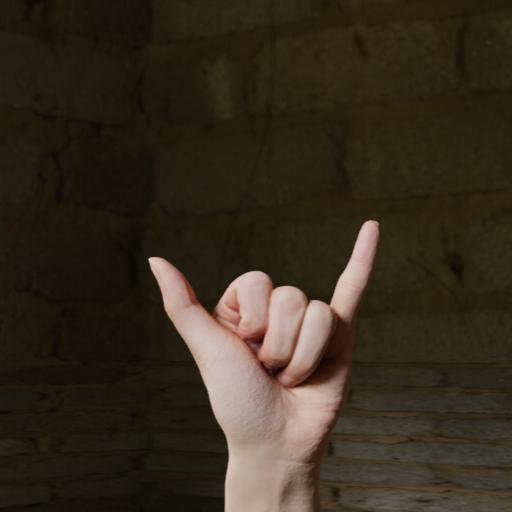Y: (125, 210, 380, 470)
